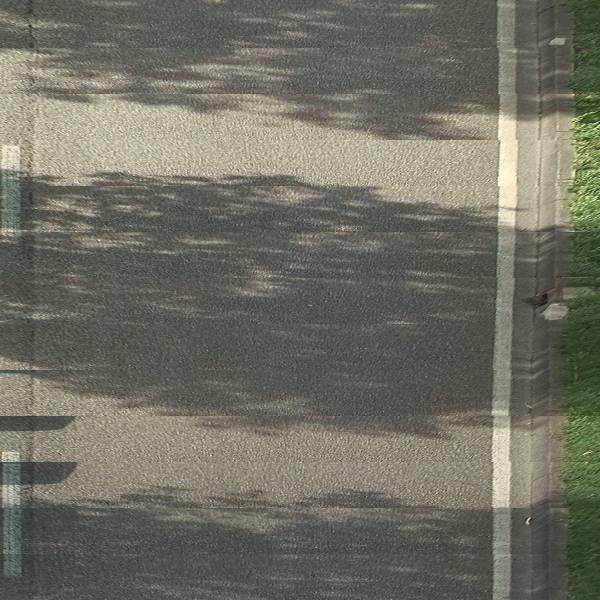road_damage: (24, 55, 41, 585)
